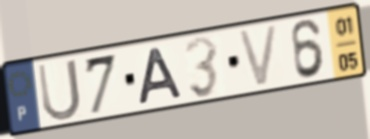3: (183, 34, 224, 101)
6: (288, 16, 325, 81)
7: (81, 53, 121, 117)
A: (137, 45, 186, 107)
U: (35, 56, 84, 124)
V: (235, 21, 282, 91)
